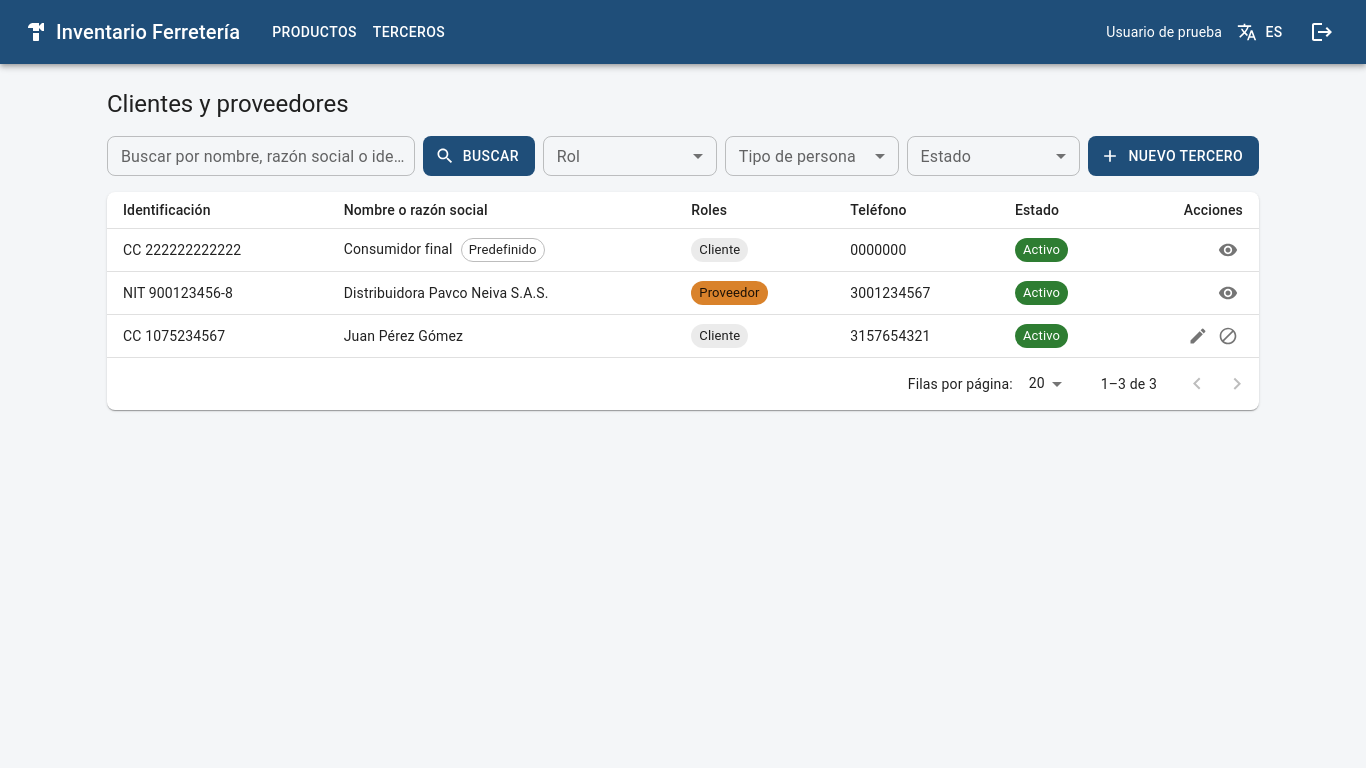
Scenario: TercerosPage › [CA-RF-SEG-001-2] un vendedor edita clientes, pero un proveedor solo lo puede ver
Check: the button with test id "tercero-editar-5" is shown, box top-left (1183, 321), bottom-right (1213, 351)
Check: the button with test id "tercero-desactivar-5" is shown, box top-left (1213, 321), bottom-right (1243, 351)
Click the button with test id "tercero-ver-2": (1228, 293) top-left (1213, 278), bottom-right (1243, 308)
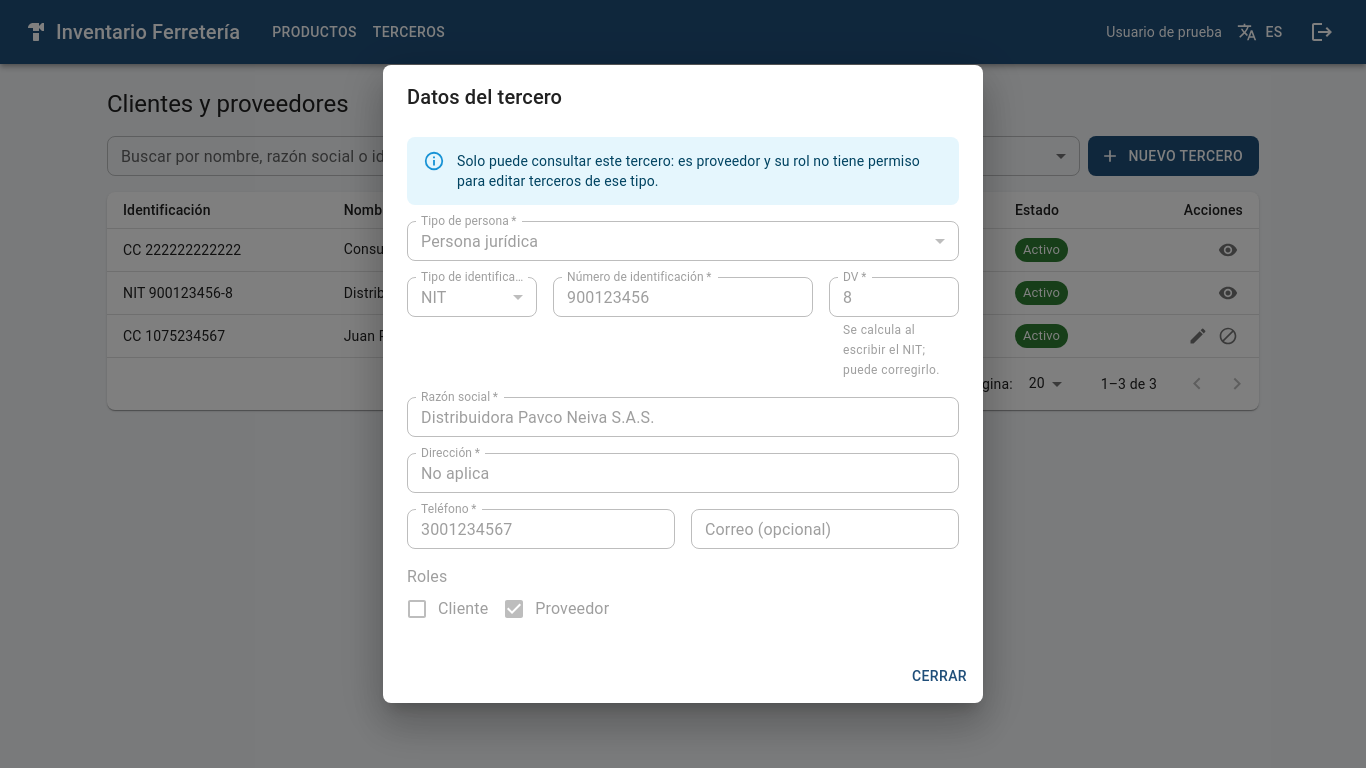
Check: the message with test id "tercero-solo-lectura" is shown, box top-left (407, 137), bottom-right (959, 205)
